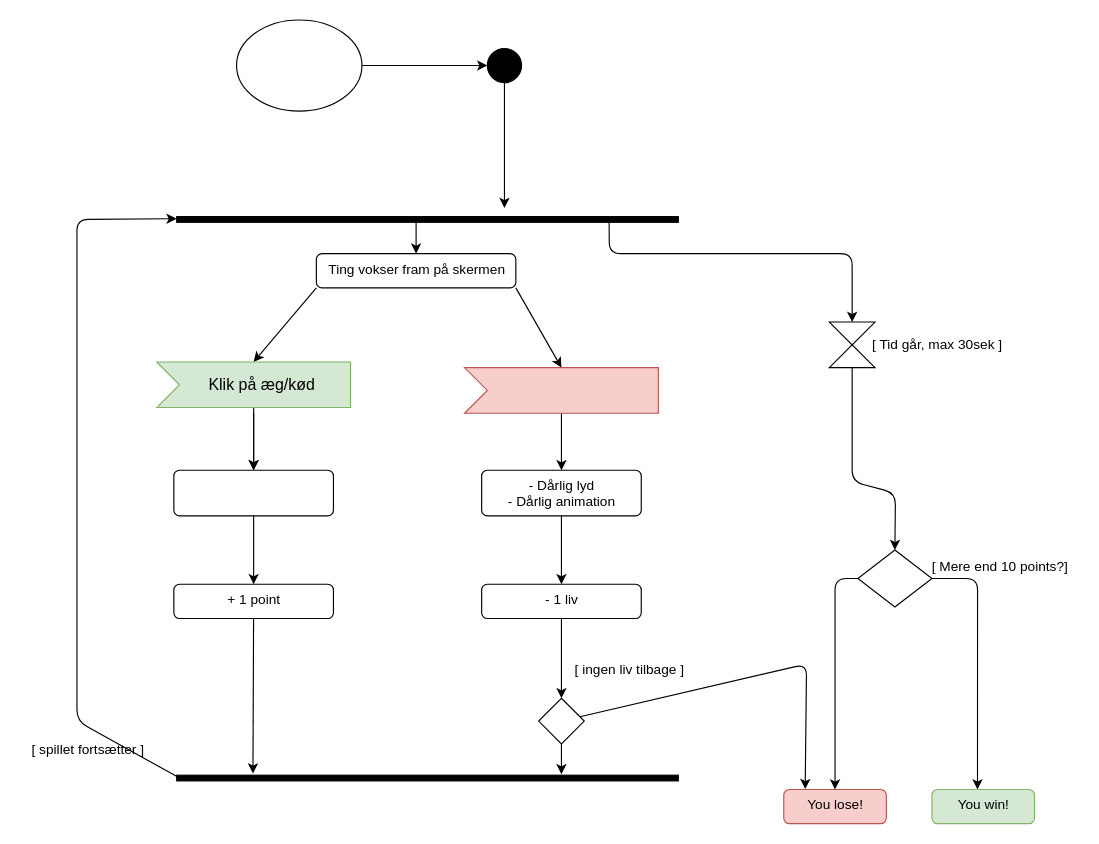
This 1099x844 diagram has some shape labels left out. Here are the shapes that lost their labels. From the top down, the centre of each, then its label:
At pixel 298 65: "Startskerm".
At pixel 560 390: "Klik på sten/træ".
At pixel 253 492: "- Godt lyd - God animation".
